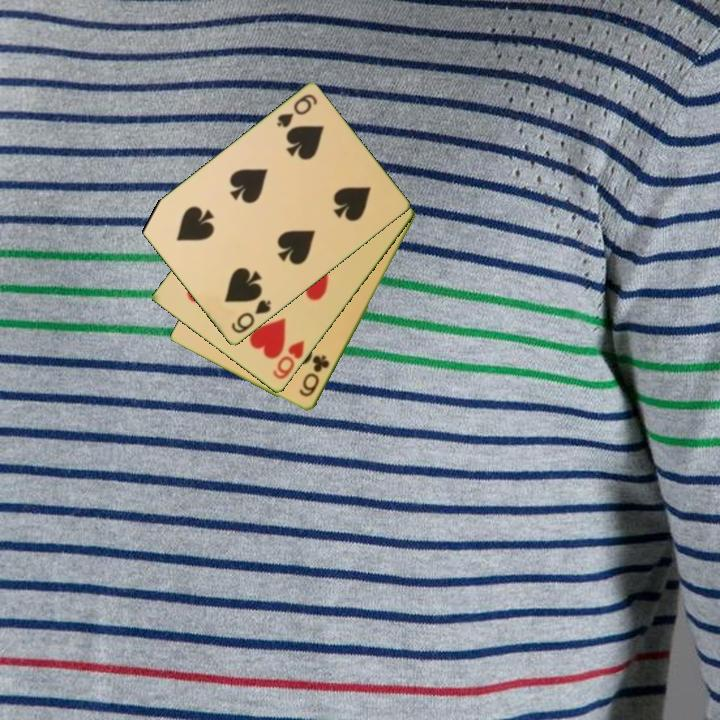6c: (296, 352, 333, 400)
6h: (269, 337, 308, 383)
6s: (227, 296, 274, 337), (273, 91, 320, 131)
